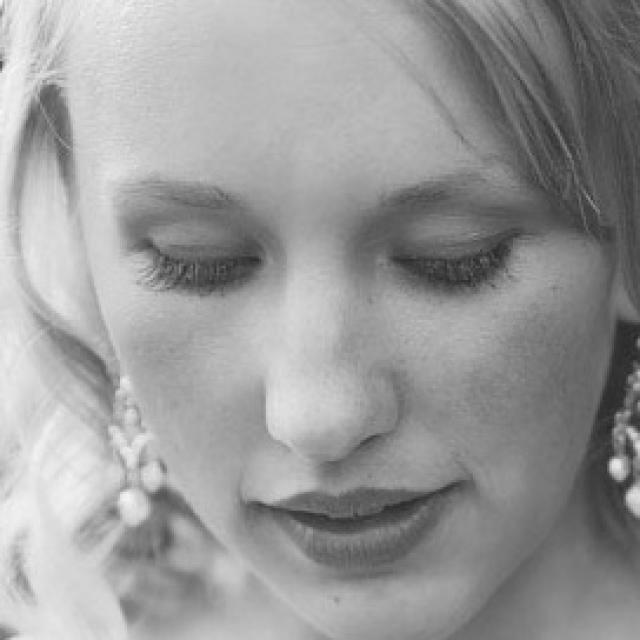real: (50, 46, 618, 616), (87, 168, 532, 282)
